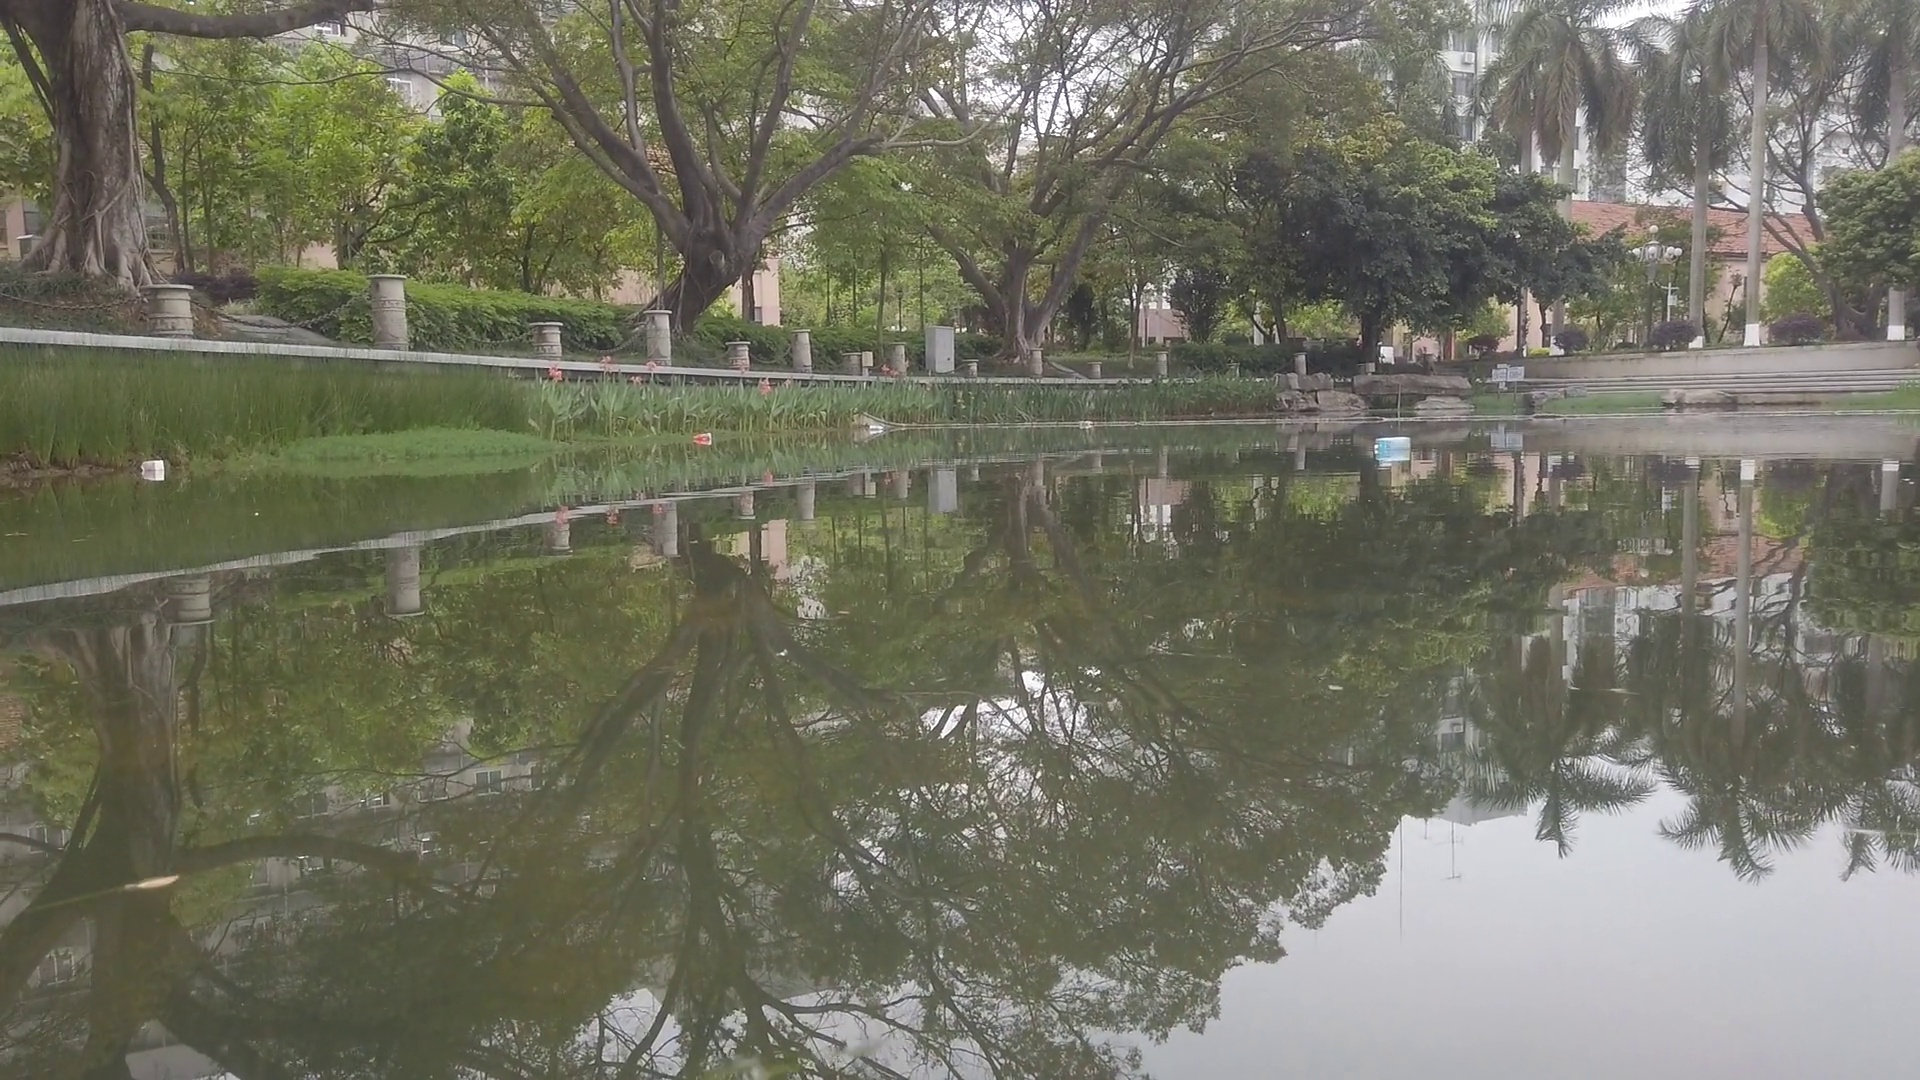bottle: (694, 433, 712, 442), (868, 423, 884, 431), (1079, 419, 1092, 429)
carton: (1374, 436, 1414, 454), (141, 460, 164, 473)
